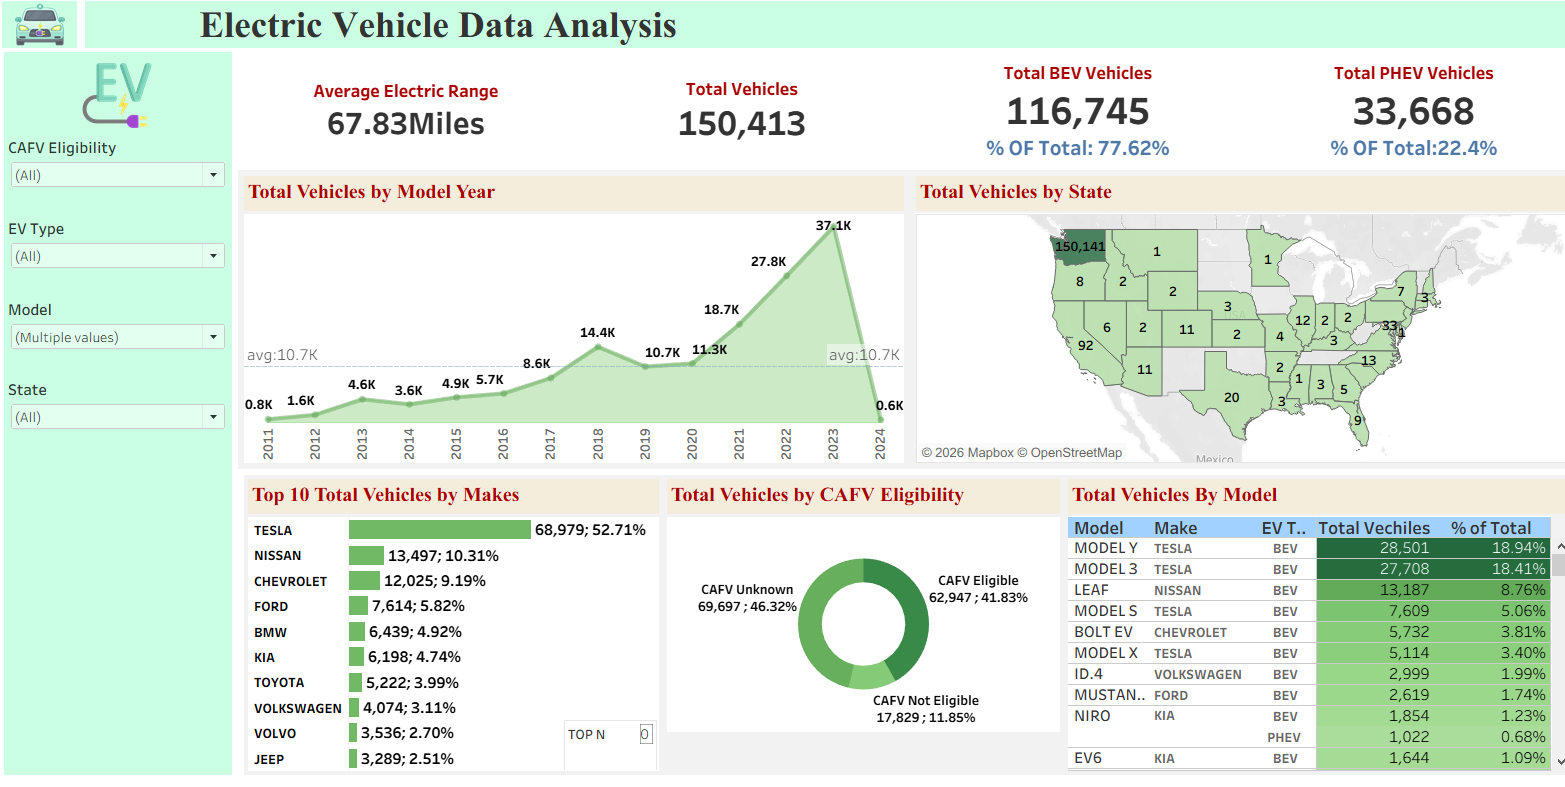

What the dashboard file says about the page in this screenshot:
{"tool":"tableau","page":{"name":"EV DASHBOARD","canvas":[1600,900],"ordinal":0},"visuals":[{"type":"image","param":"Image/ev car.png","box":[8,8,83,62]},{"type":"title","box":[91,8,1501,62]},{"type":"image","param":"Image/ChatGPT Image Jan 19, 2026, 02_54_57 PM.png","box":[14,70,228,91]},{"type":"worksheet","title":"Average Electric ","mark":"Automatic","box":[248,70,336,133]},{"type":"worksheet","title":"Total Vehicles","mark":"Automatic","box":[584,70,336,133]},{"type":"worksheet","title":"Total BEV Value","mark":"Automatic","box":[920,70,336,133]},{"type":"worksheet","title":"TOTAL PHEV VALUE","mark":"Automatic","box":[1256,70,336,133]},{"type":"filter","title":"Total Vehicles by Model Year","param":"[federated.0izyd2v0iv37es18dmqrr19lq2il].[none:Clean Alternative Fuel Vehicle (C","box":[14,161,228,91]},{"type":"worksheet","title":"Total Vehicles by Model Year","mark":"Area","rows":["Calculation_1488158231088582656","Calculation_1488158231088582656"],"cols":["Model Year"],"box":[248,203.1,672,337.4]},{"type":"worksheet","title":"Total Vehicles by State","mark":"Multipolygon","box":[920,203.1,672,337.4]},{"type":"filter","title":"Total Vehicles by Model Year","param":"[federated.0izyd2v0iv37es18dmqrr19lq2il].[none:Electric Vehicle Type:nk]","box":[14,252,228,91]},{"type":"filter","title":"Total Vehicles by Model Year","param":"[federated.0izyd2v0iv37es18dmqrr19lq2il].[none:Model:nk]","box":[14,343,228,91]},{"type":"filter","title":"Total Vehicles by Model Year","param":"[federated.0izyd2v0iv37es18dmqrr19lq2il].[none:State:nk]","box":[14,434,228,91]},{"type":"blank","box":[14,525,228,91]},{"type":"worksheet","title":"Top 10 Total Vehicles by Makes","mark":"Automatic","rows":["Make"],"cols":["Calculation_1488158231088582656"],"box":[254,546.5,419,339.5]},{"type":"worksheet","title":"Total Vehicles by CAFV Eligibility","mark":"Pie","rows":["Calculation_1488158231354388495","Calculation_1488158231354388495"],"box":[673,546.5,401,339.5]},{"type":"worksheet","title":"Total Vehicles By Model","mark":"Square","rows":["Model","Make","Electric Vehicle Type"],"box":[1074,546.5,512,339.5]},{"type":"blank","box":[14,616,228,90]},{"type":"blank","box":[14,706,228,90]},{"type":"blank","box":[14,796,228,90]},{"type":"parameter","param":"[Parameters].[Parameter 1]","box":[574,822,93,57]}]}

Visuals, with their boxes on the page's 1600x900 design canvas (x1, y1, x2, y2). These are canvas units, not pixel positions in the 1565x787 screenshot, which may show the page scaled, cropped or inside an application window:
image: box(8, 8, 91, 70)
title: box(91, 8, 1592, 70)
image: box(14, 70, 242, 161)
"Average Electric " worksheet: box(248, 70, 584, 203)
"Total Vehicles" worksheet: box(584, 70, 920, 203)
"Total BEV Value" worksheet: box(920, 70, 1256, 203)
"TOTAL PHEV VALUE" worksheet: box(1256, 70, 1592, 203)
"Total Vehicles by Model Year" filter: box(14, 161, 242, 252)
"Total Vehicles by Model Year" worksheet (Area marks): box(248, 203, 920, 540)
"Total Vehicles by State" worksheet (Multipolygon marks): box(920, 203, 1592, 540)
"Total Vehicles by Model Year" filter: box(14, 252, 242, 343)
"Total Vehicles by Model Year" filter: box(14, 343, 242, 434)
"Total Vehicles by Model Year" filter: box(14, 434, 242, 525)
blank: box(14, 525, 242, 616)
"Top 10 Total Vehicles by Makes" worksheet: box(254, 546, 673, 886)
"Total Vehicles by CAFV Eligibility" worksheet (Pie marks): box(673, 546, 1074, 886)
"Total Vehicles By Model" worksheet (Square marks): box(1074, 546, 1586, 886)
blank: box(14, 616, 242, 706)
blank: box(14, 706, 242, 796)
blank: box(14, 796, 242, 886)
parameter: box(574, 822, 667, 879)
